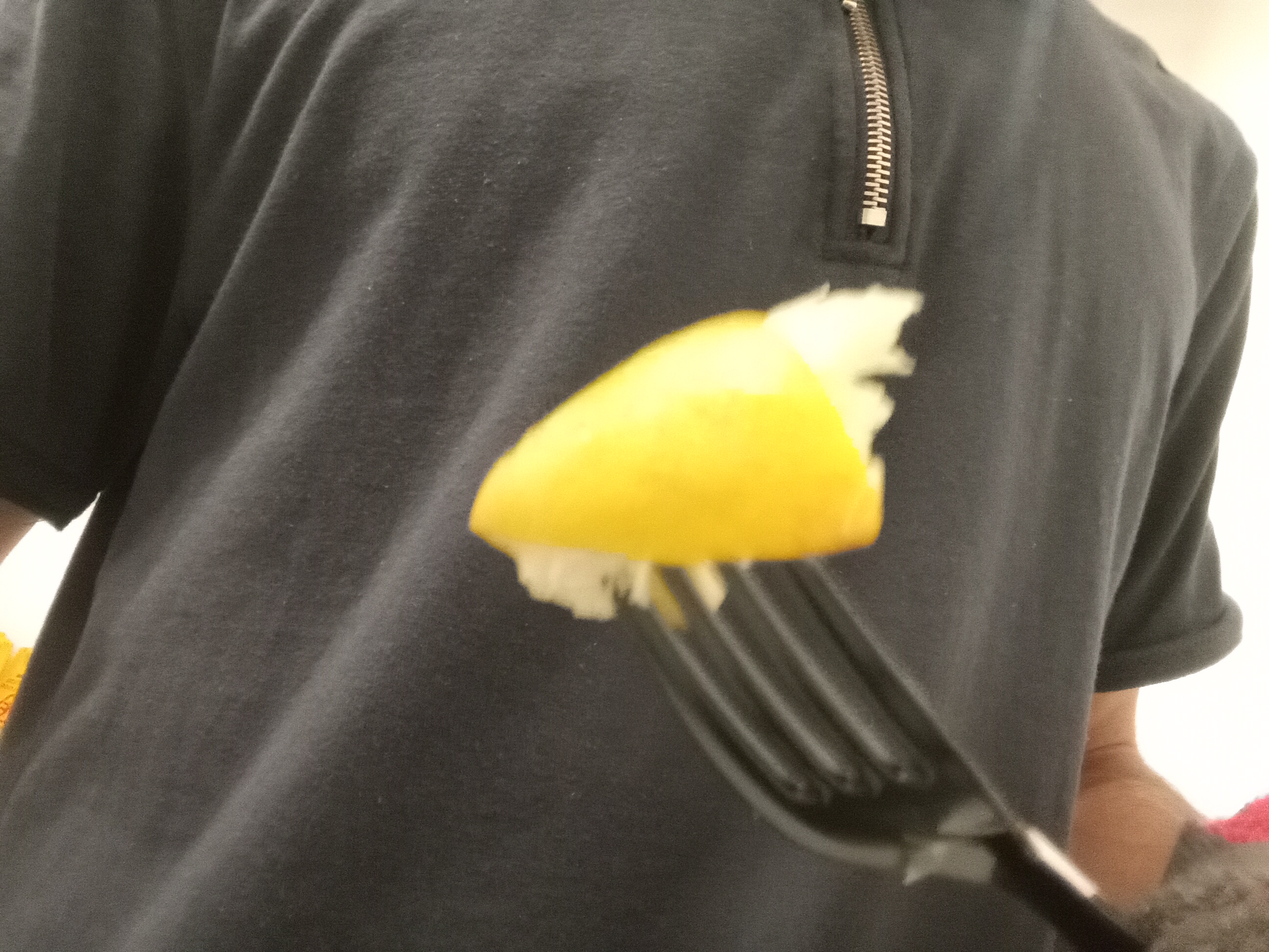Organico: (469, 284, 925, 621)
